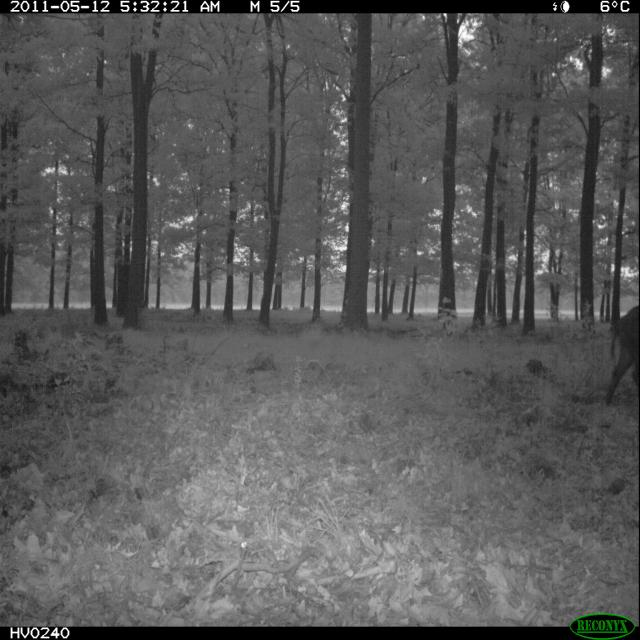boar: (593, 289, 640, 425)
